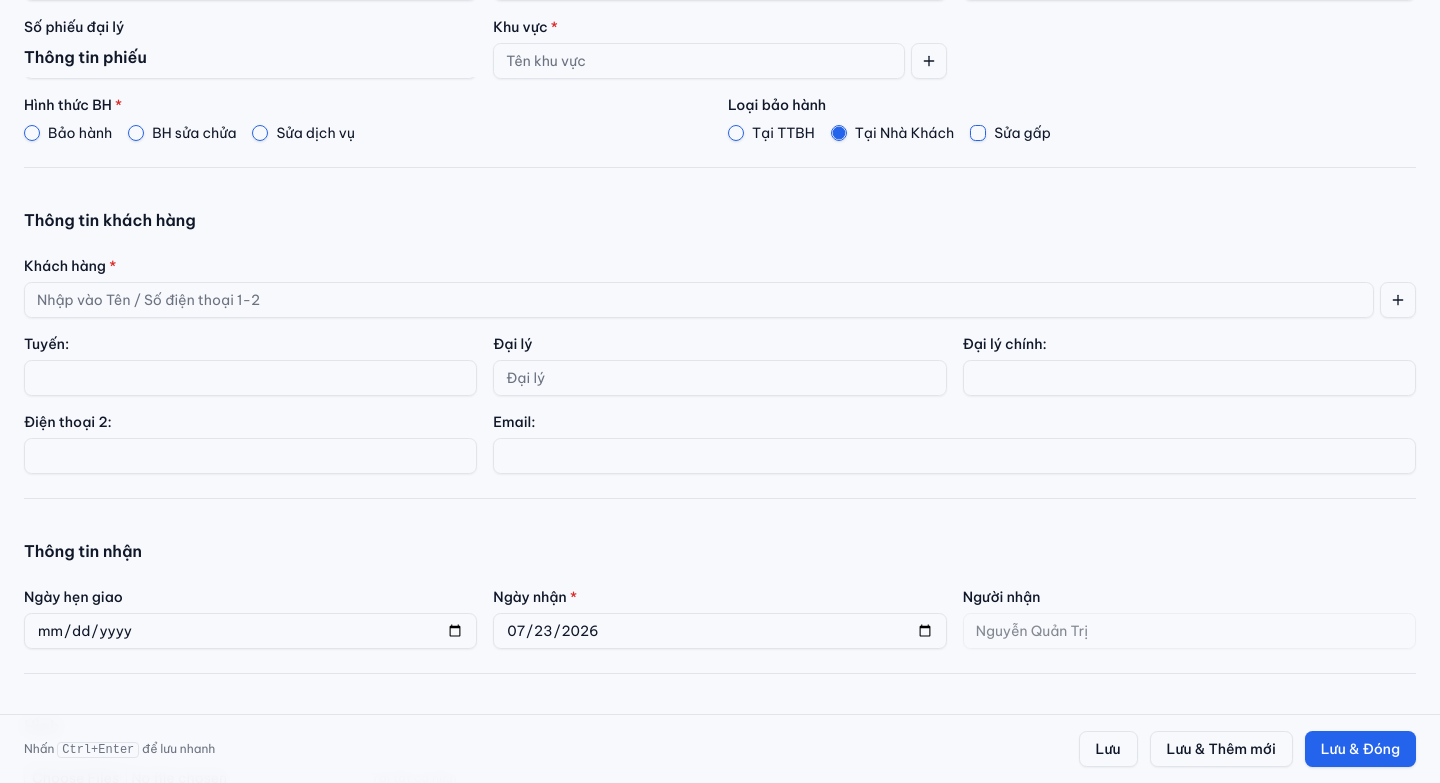
Test: CustomerSection › derives Đại lý chính from the selected dealer without a stored field
(page scrolled)
Type "0978144535" into the dropdown labelled "Đại lý" at [720, 378], box [493,360,947,396]
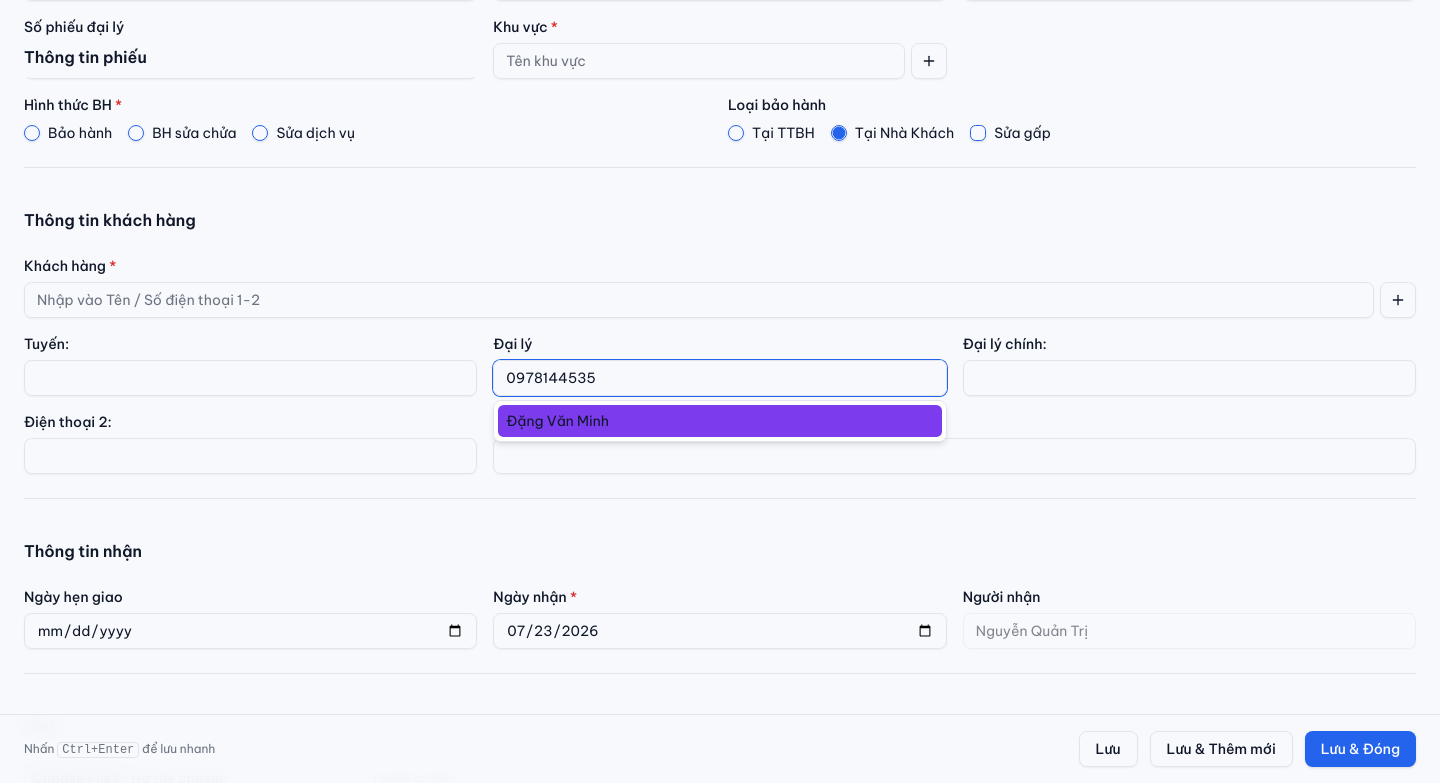
Click the option "Đặng Văn Minh" at [558, 421], box [498,405,942,437]
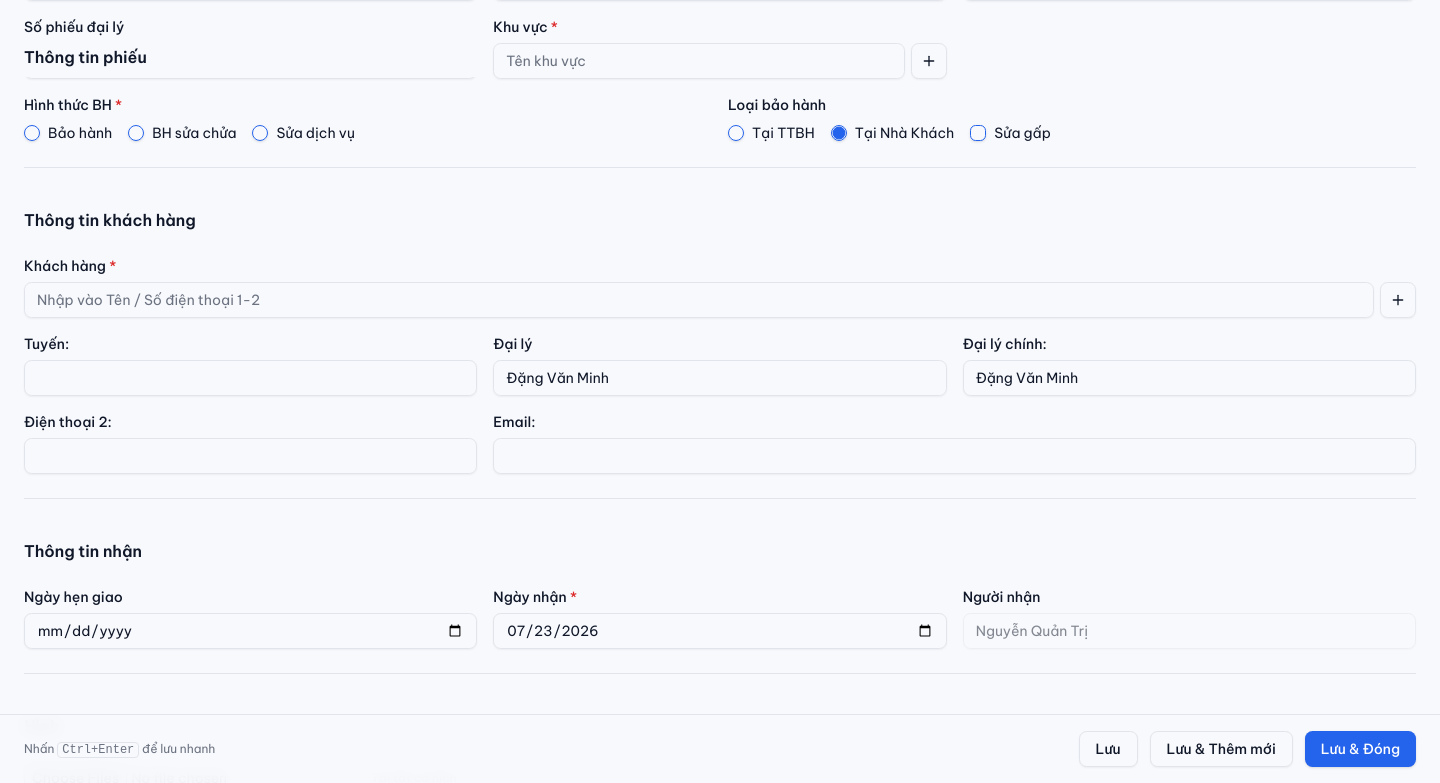
Result: the field labelled "Đại lý chính:" holds "Đặng Văn Minh" at [963,360,1416,396]
